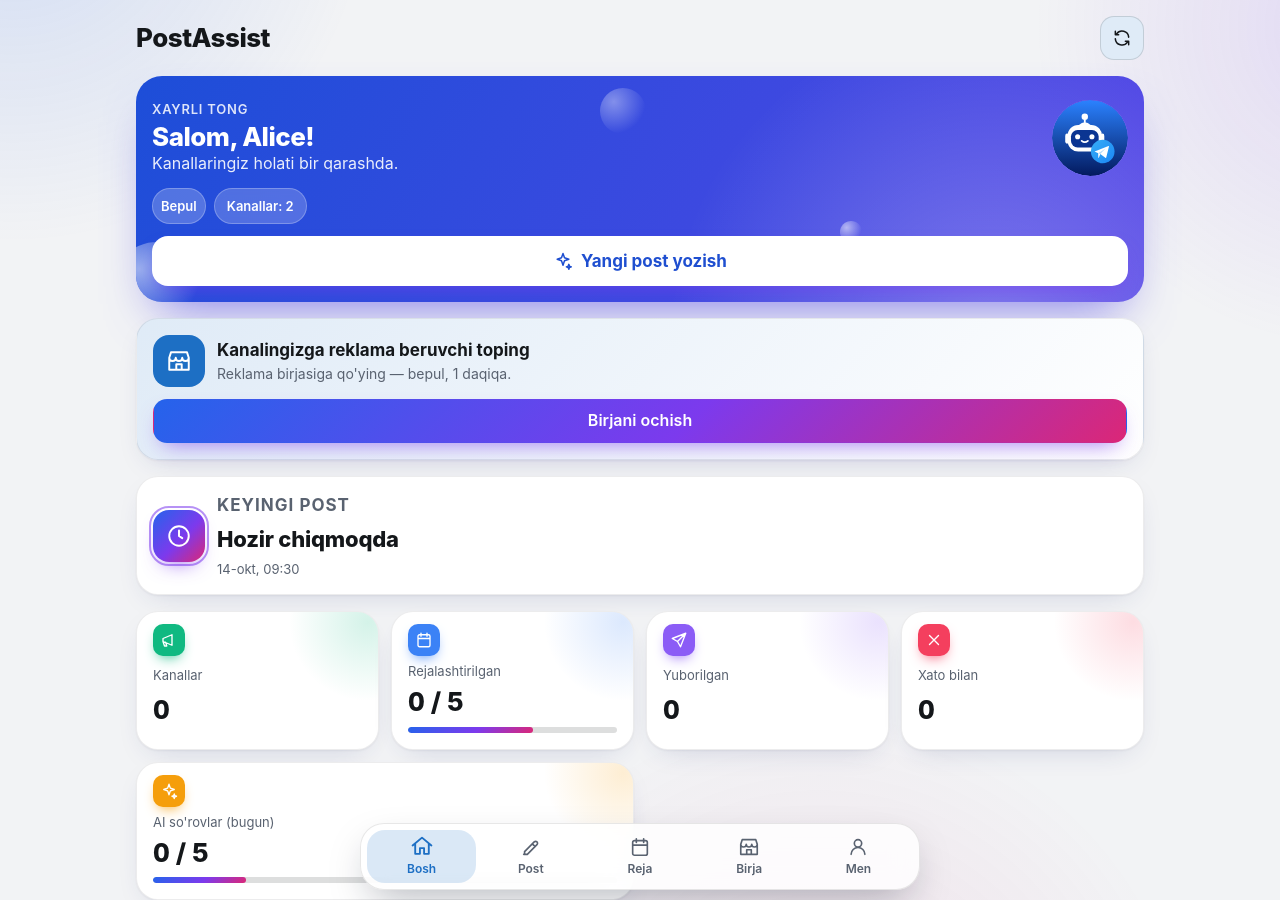
Post yaratish › server xatosi (navbat limiti): xabar ko'rsatiladi, matn saqlanadi, avtomatik qayta urinish yo'q
expect the heading "Salom, Alice!" is shown: met, box [152,121,314,152]
Click the button "Post".
click(531, 856)  # box [476,830,585,883]
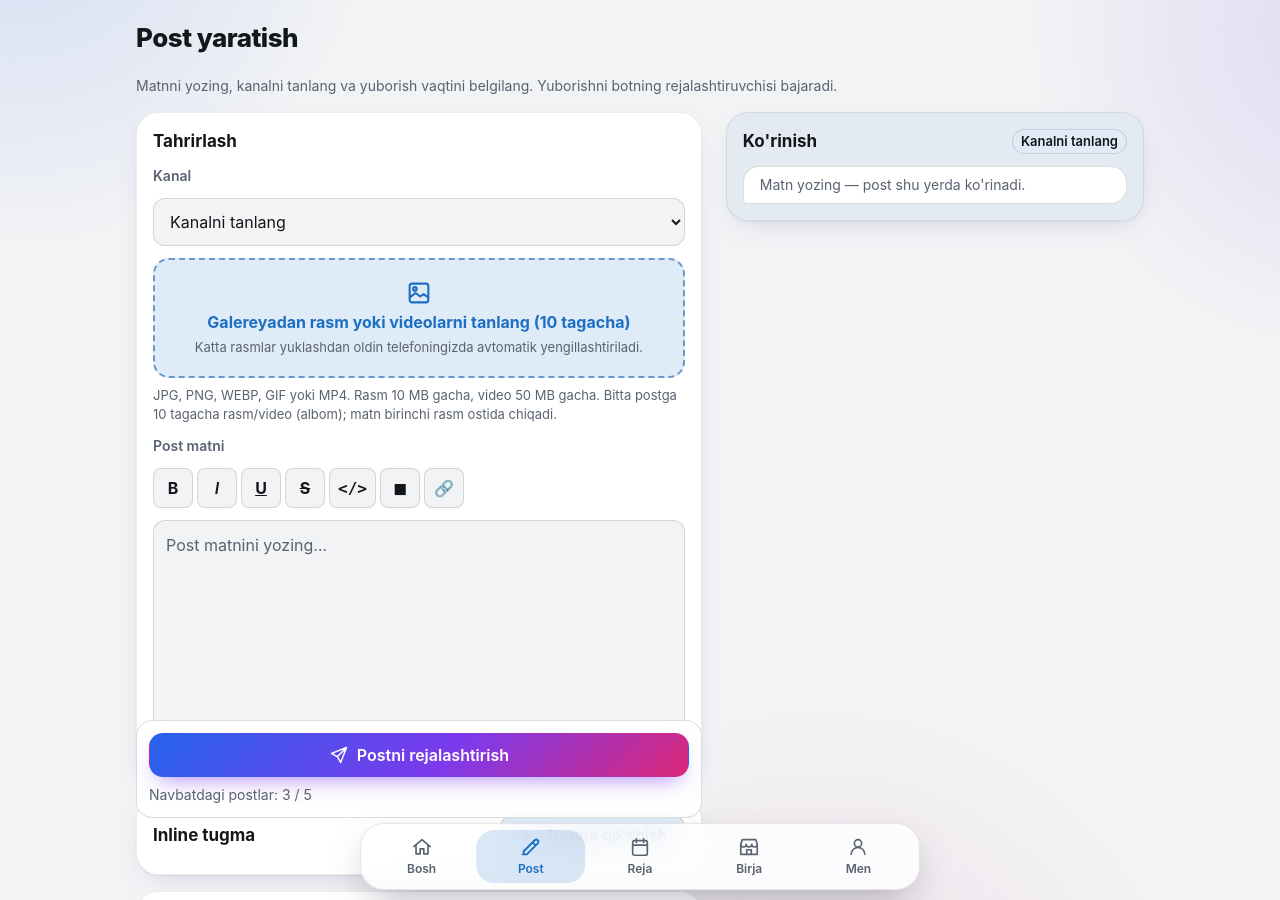
Select "Kanal A" in the dropdown labelled "Kanal" at (419, 222), box [153,198,685,246]
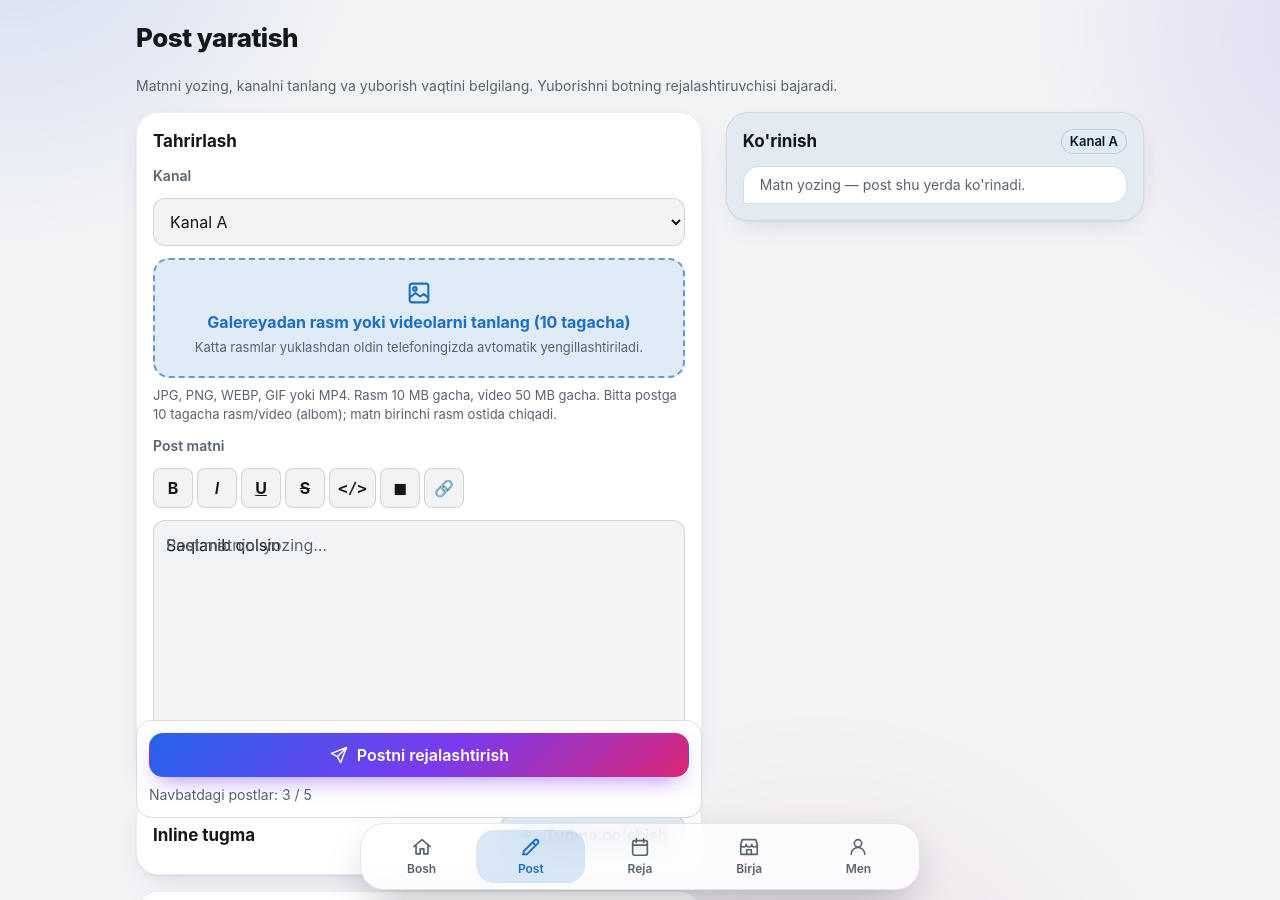
Clear the field named "Post matni" at (419, 626), box [153,520,685,731]
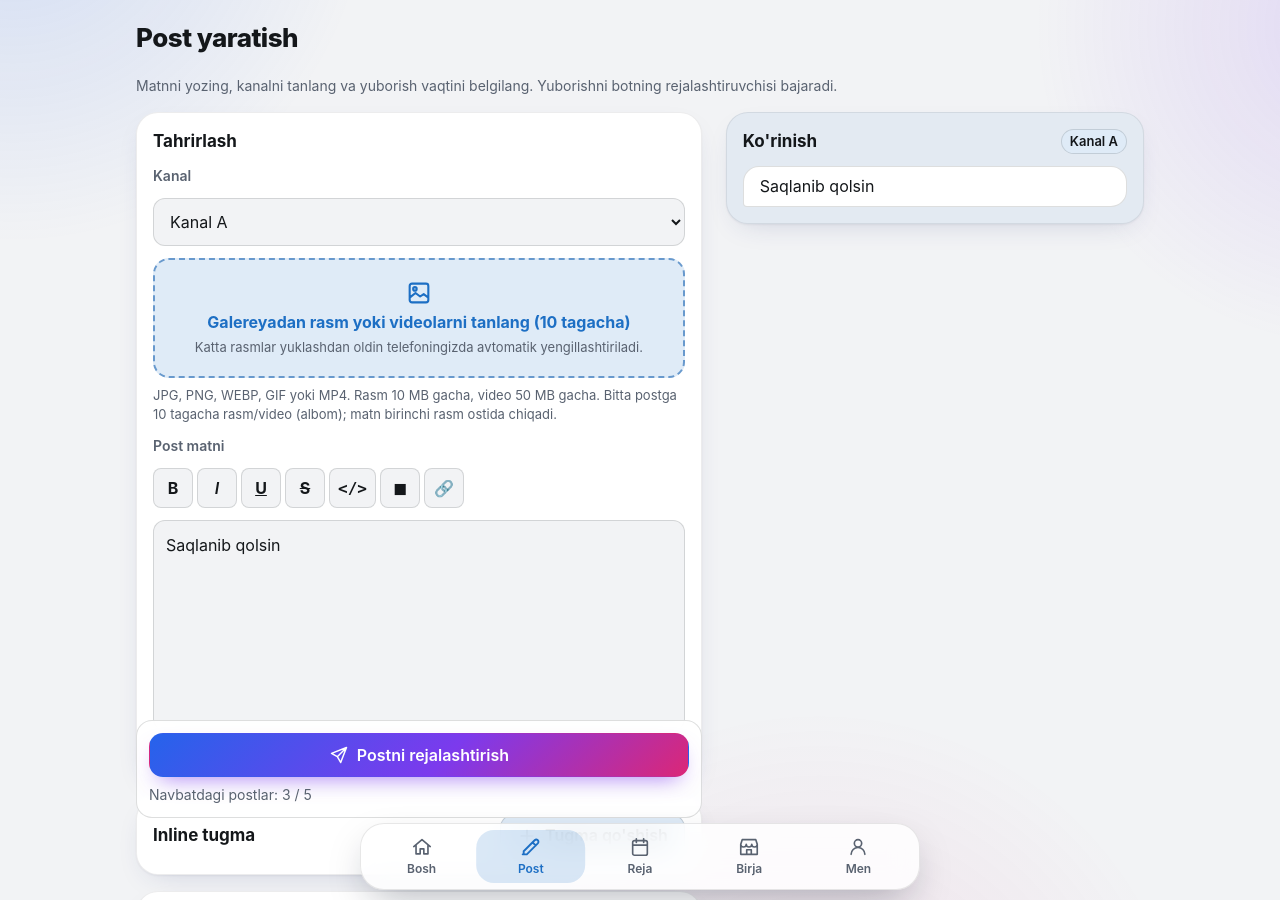
Click the button "Postni rejalashtirish".
click(419, 755)  # box [149,733,689,777]
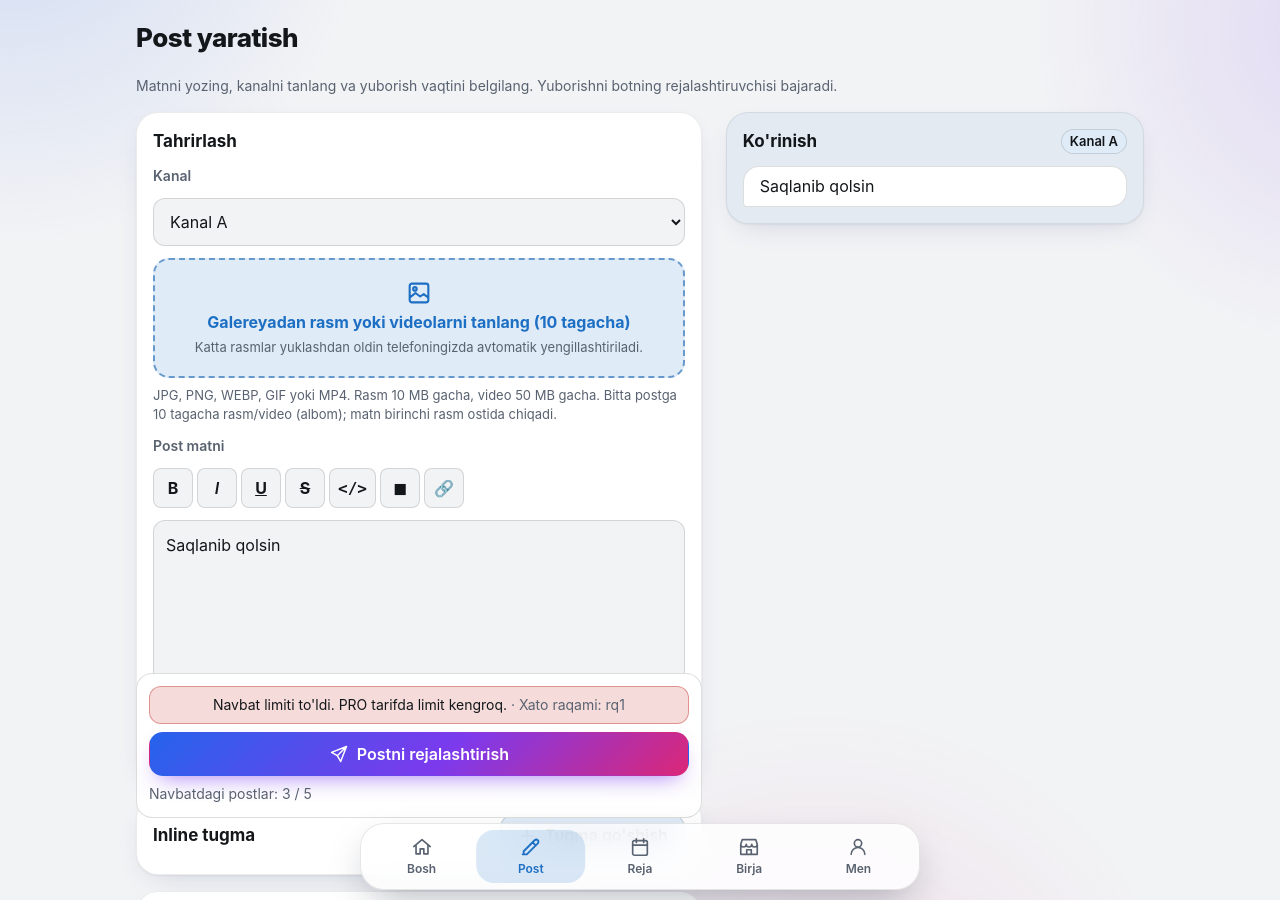
expect the text "Navbat limiti to'ldi. PRO tarifda limit kengroq. · Xato raqami: rq1" is shown: met, box [149,686,689,725]
